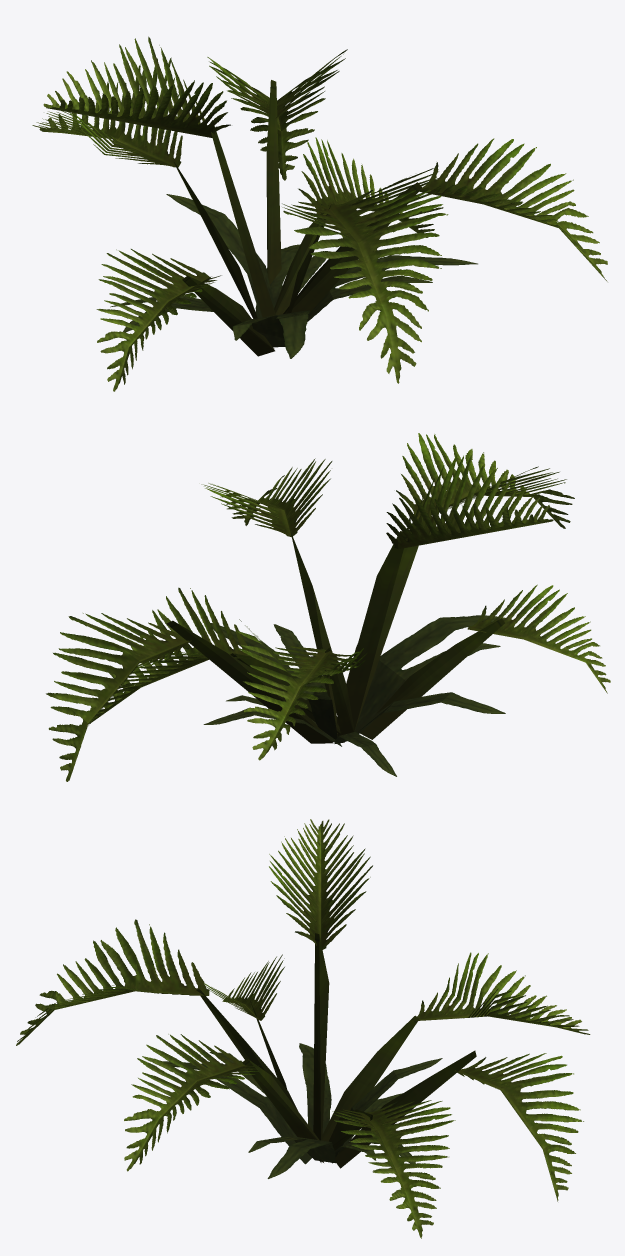
The model's file is wm_云之彼端新灌木01.fbx.
3 renders of one model, top to bottom at view 1: azimuth 30°, elevation 25°; view 2: azimuth 150°, elevation 25°; view 3: azimuth 270°, elevation 25°, orthographic. The views are drawn at different scales.
Parts seen in each view (by area): view 1: wm_云之彼端新灌木01; view 2: wm_云之彼端新灌木01; view 3: wm_云之彼端新灌木01.
Boxes of the visible parts, <box> form: wm_云之彼端新灌木01: <box>32,36,607,391</box>; wm_云之彼端新灌木01: <box>46,433,610,781</box>; wm_云之彼端新灌木01: <box>16,819,590,1238</box>.
Size of the model in its own units: 365 by 243 by 462.
